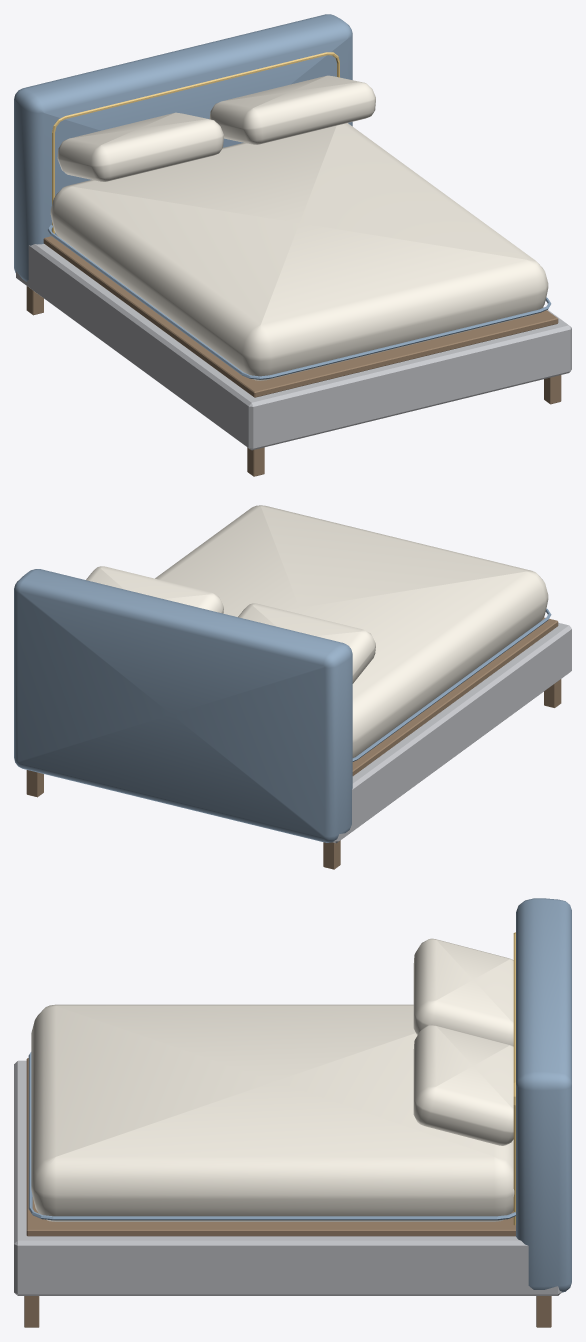
Rendered from model-lounge-furniture-bed-086be35da80c.glb.
3 renders of one model, top to bottom at view 1: azimuth 30°, elevation 25°; view 2: azimuth 150°, elevation 25°; view 3: azimuth 270°, elevation 25°, orthographic. The views are drawn at different scales.
Visible parts, largest first — view 1: double-bed-upholstered; view 2: double-bed-upholstered; view 3: double-bed-upholstered.
Part boxes in pixels (x1,y1,x2,y2): double-bed-upholstered: (14, 14, 571, 476); double-bed-upholstered: (14, 505, 571, 869); double-bed-upholstered: (14, 898, 571, 1327).
Size of the model in its own units: 1.71 by 1.11 by 2.19.
